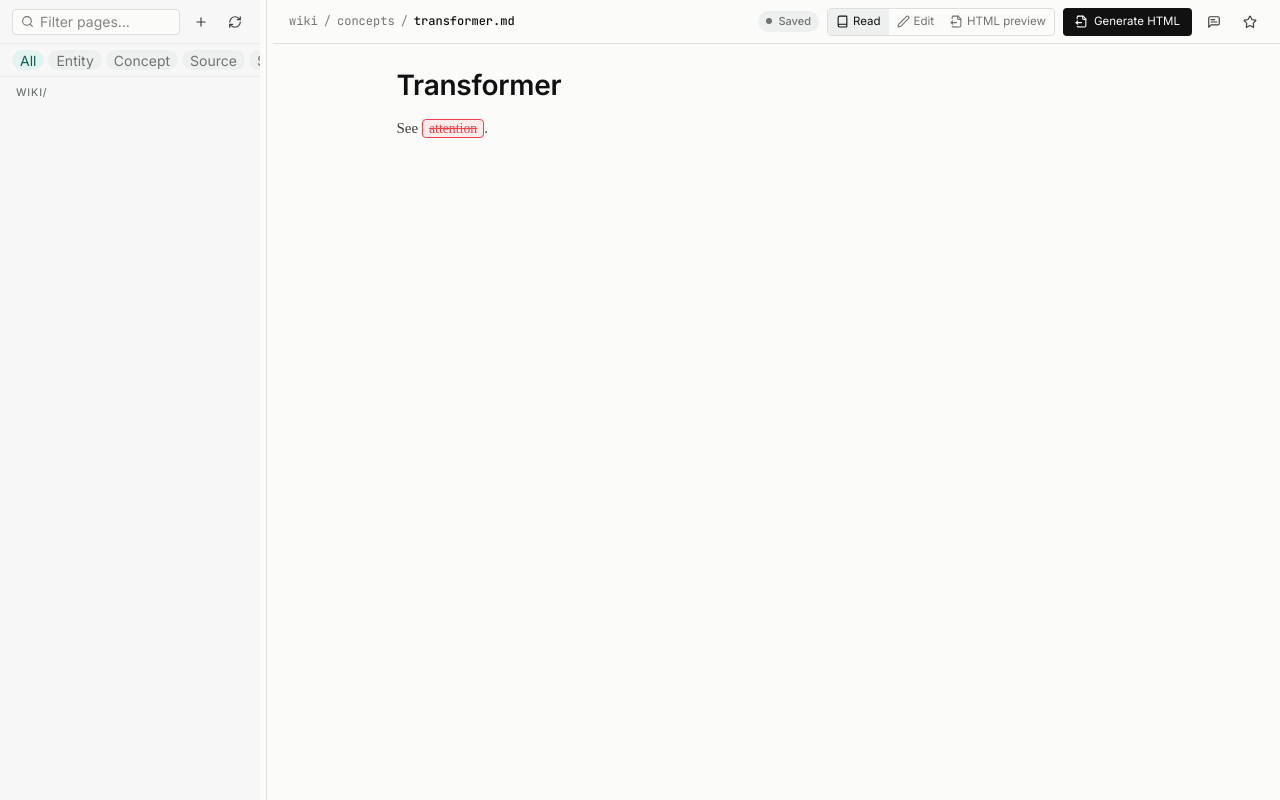
Wiki HTML preview › keeps the Wiki toolbar quick export on Wiki instead of launching Workflows
The width and height of the screenshot is (1280, 800).
Click the button "Generate HTML" at [1128, 22], box [1063,8,1192,36]
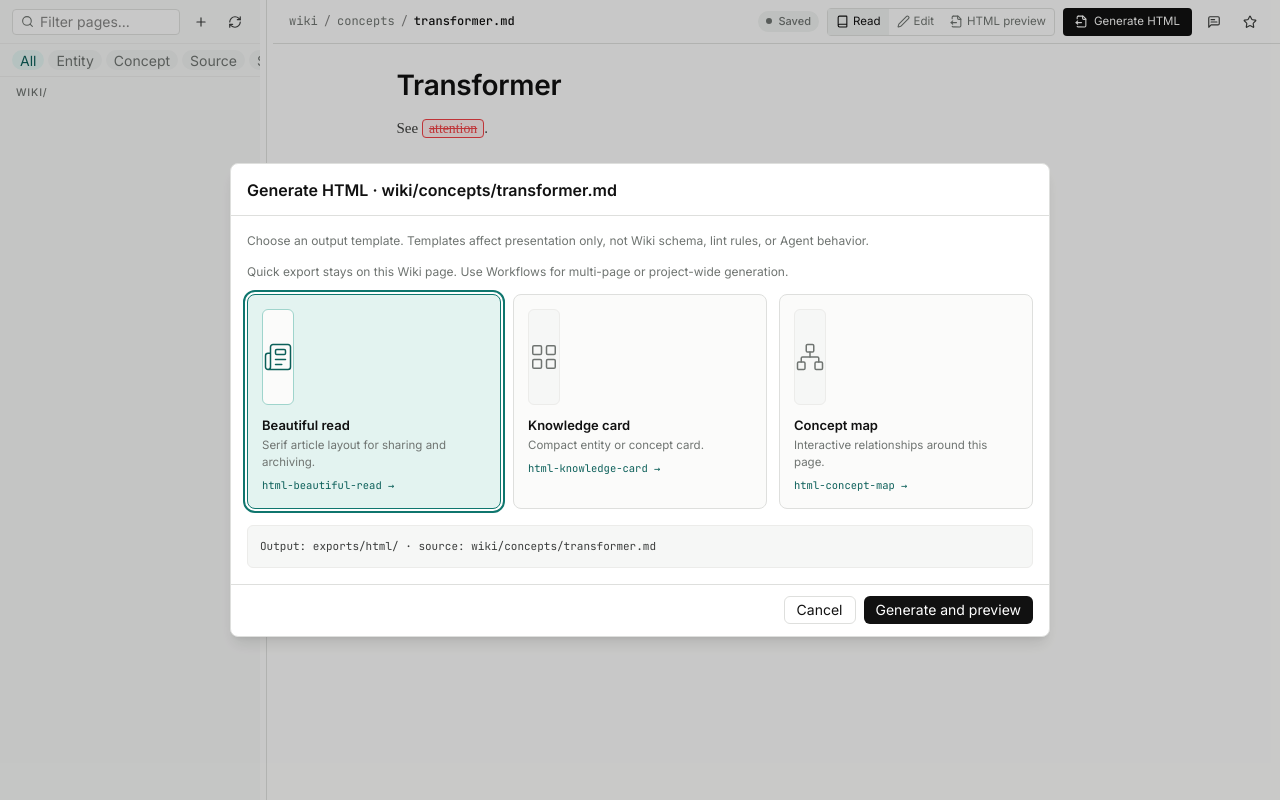
Expected: the text "wiki" is shown, [289,12,318,31]
Expected: the dialog is shown
